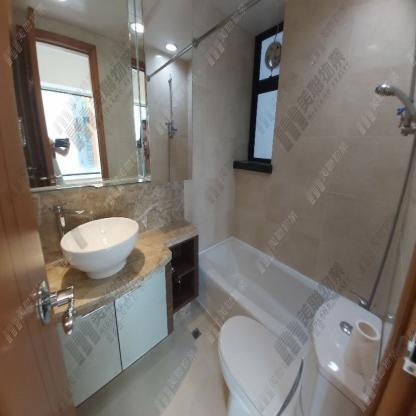Bathtub: (196, 236, 364, 353)
Exhaust Fan: (264, 40, 283, 70)
Toilet: (216, 292, 385, 415)
Toilet Sink: (58, 216, 139, 283)
